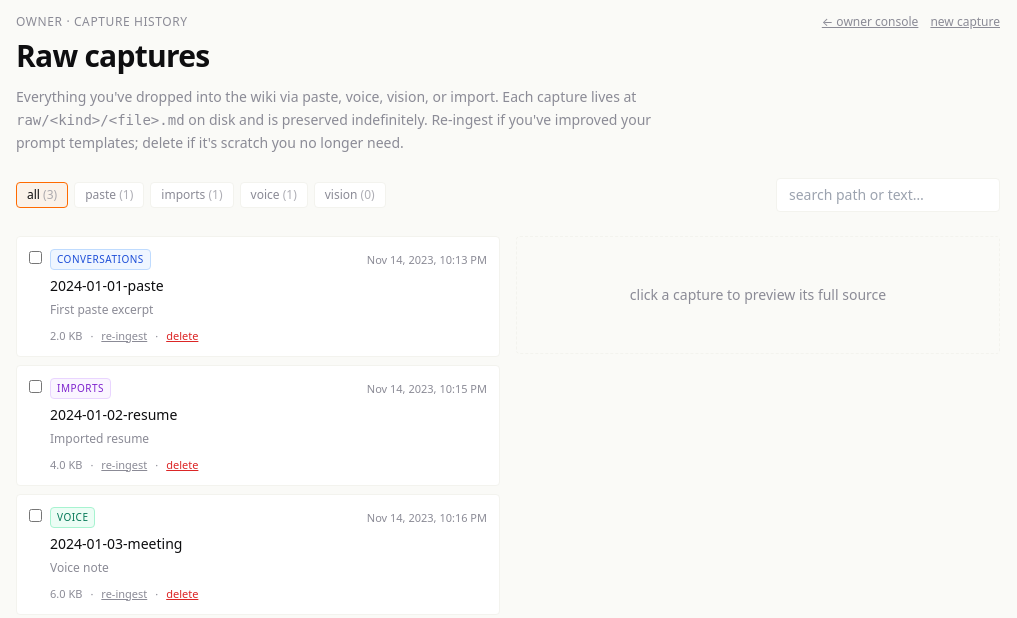
Test: CapturesPage › filter buttons narrow which rows render
Expected: the text "2024-01-01-paste" is shown, [50,276,164,295]
Click the button "voice (1)": (274, 195) [240,182,308,208]
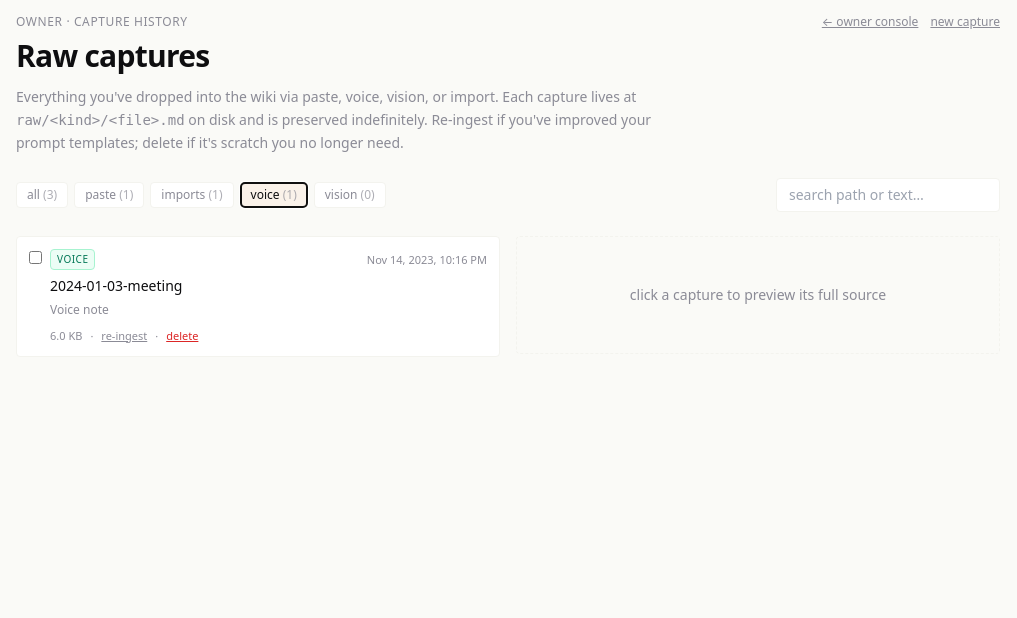
Expected: the text "2024-01-03-meeting" is shown, [50,276,182,295]
Expected: the text "2024-01-01-paste" is gone
Expected: the text "2024-01-02-resume" is gone
